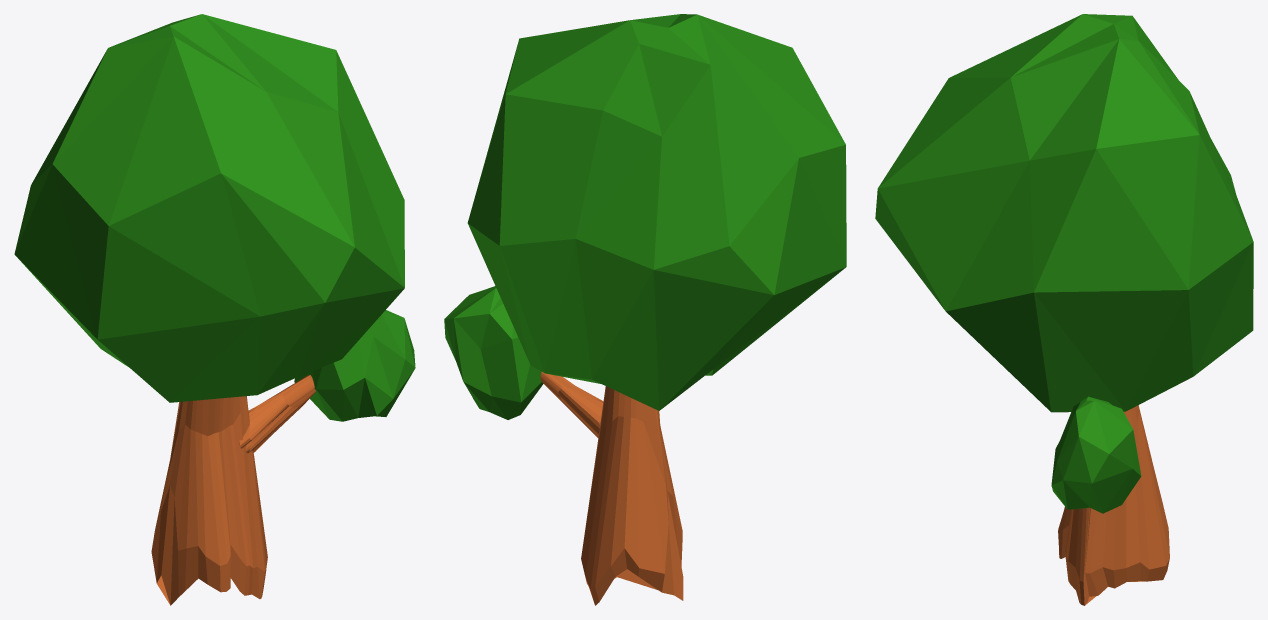
Rendered from treebyme.glb.
3 views of the same model, side by side, from view 1: azimuth 30°, elevation 25°; view 2: azimuth 150°, elevation 25°; view 3: azimuth 270°, elevation 25° (orthographic). The views are drawn at different scales.
Parts seen in each view (by area): view 1: treetop, trunk, treetop.001, trunk.001; view 2: treetop, trunk, treetop.001, trunk.001; view 3: treetop, trunk, treetop.001.
Part boxes in pixels (x1,y1,x2,y2): treetop: (14, 14, 404, 402); trunk: (151, 396, 267, 605); treetop.001: (294, 310, 415, 421); trunk.001: (239, 375, 315, 453); treetop: (467, 14, 846, 410); trunk: (581, 386, 683, 605); treetop.001: (444, 286, 543, 419); trunk.001: (540, 372, 603, 437); treetop: (875, 14, 1253, 412); trunk: (1058, 405, 1169, 605); treetop.001: (1051, 396, 1141, 513).
Bounding box in the file's own units: 8.3 × 12.73 × 7.92.
